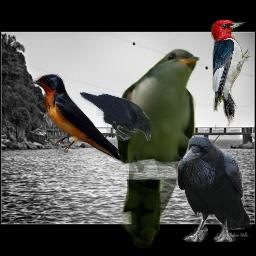Crow: (176, 135, 251, 242), (79, 92, 151, 141)
Cuckoo: (114, 48, 200, 248)
Swallow: (29, 74, 127, 164)
Woodpecker: (209, 20, 253, 126)
